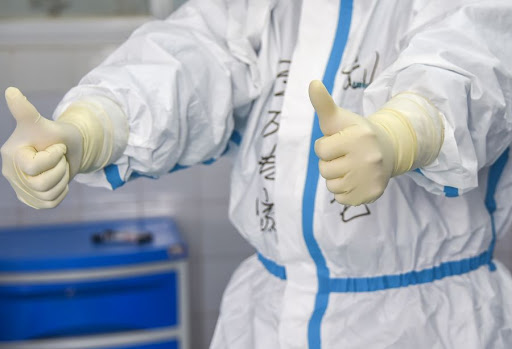Coverall: (180, 2, 512, 349)
Gloves: (298, 77, 469, 208), (1, 73, 142, 208)
